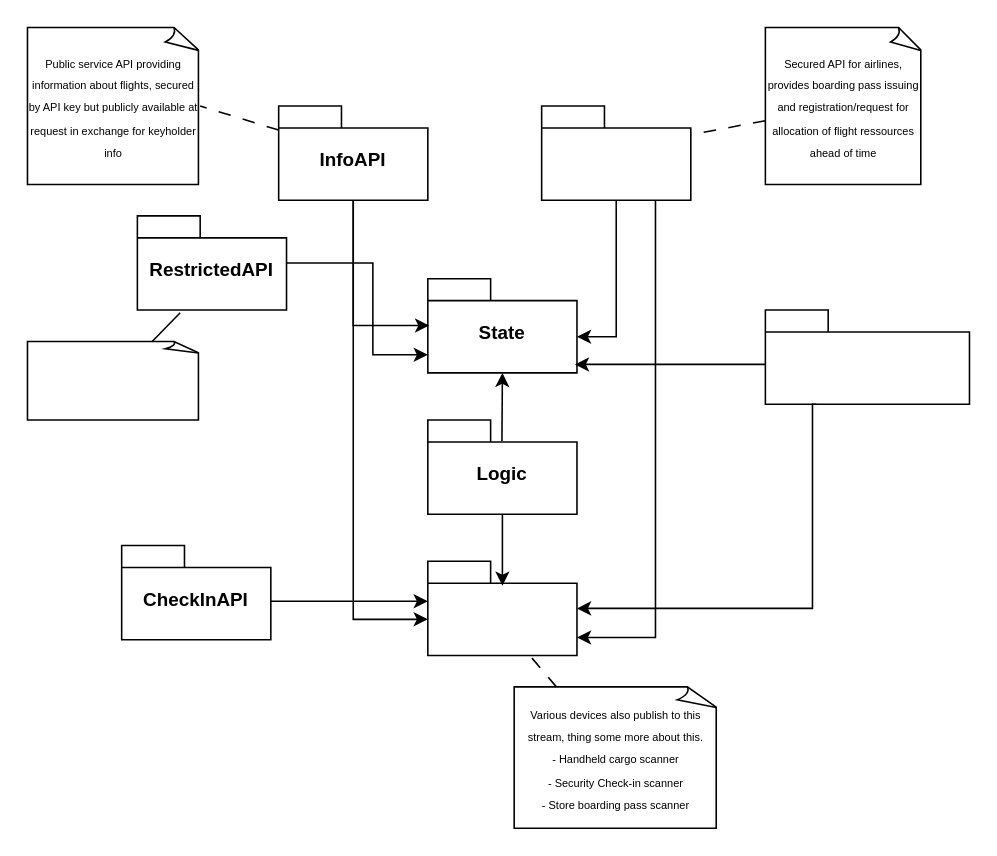
This 997x856 diagram has some shape labels left out. The shapes that lost their labels are listed below. From the top down, each one's centre as x and y in pixels, then its label:
At point 615,152: "FlightAPI".
At point 866,356: "FlightCoordination".
At point 113,380: "API reserved for especially restricted information".
At point 501,607: "EventStream".
